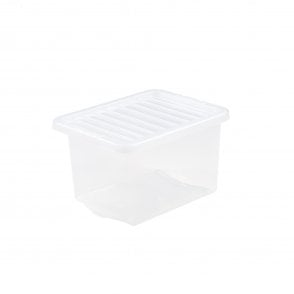PlasticBox: (51, 87, 232, 227)
